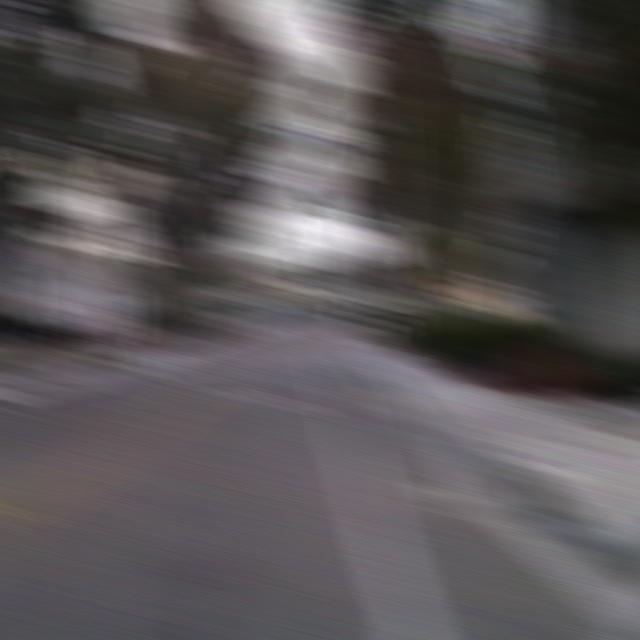pedestrianCrossing: (432, 260, 479, 308)
